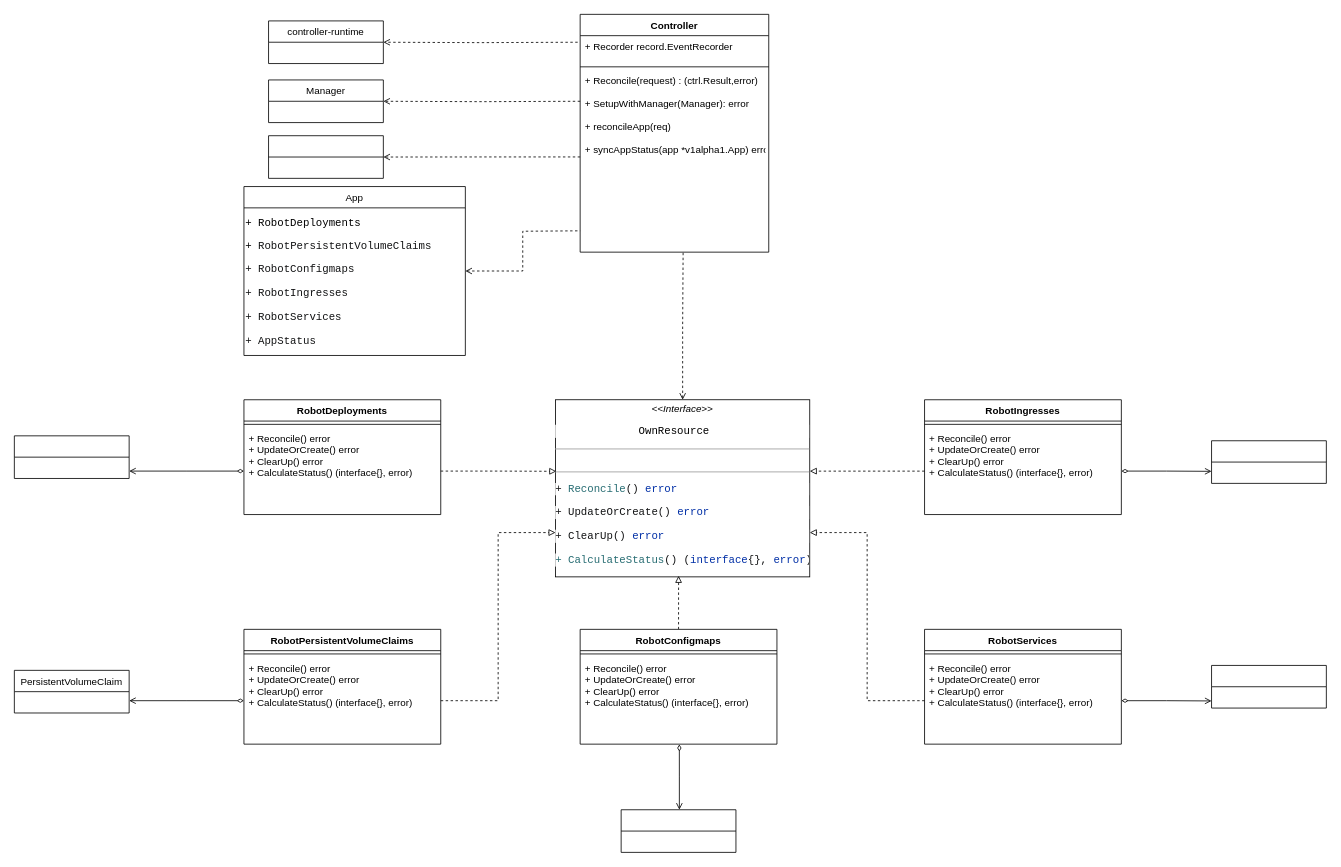
This 1341x867 diagram has some shape labels left out. The shapes that lost their labels are listed below. From the top down, each one's centre as x and y in pixels, then its label:
At (325,156): "Request".
At (71,456): "Deployment".
At (1268,461): "Ingress".
At (1268,686): "RobotService".
At (678,830): "Configmap".
